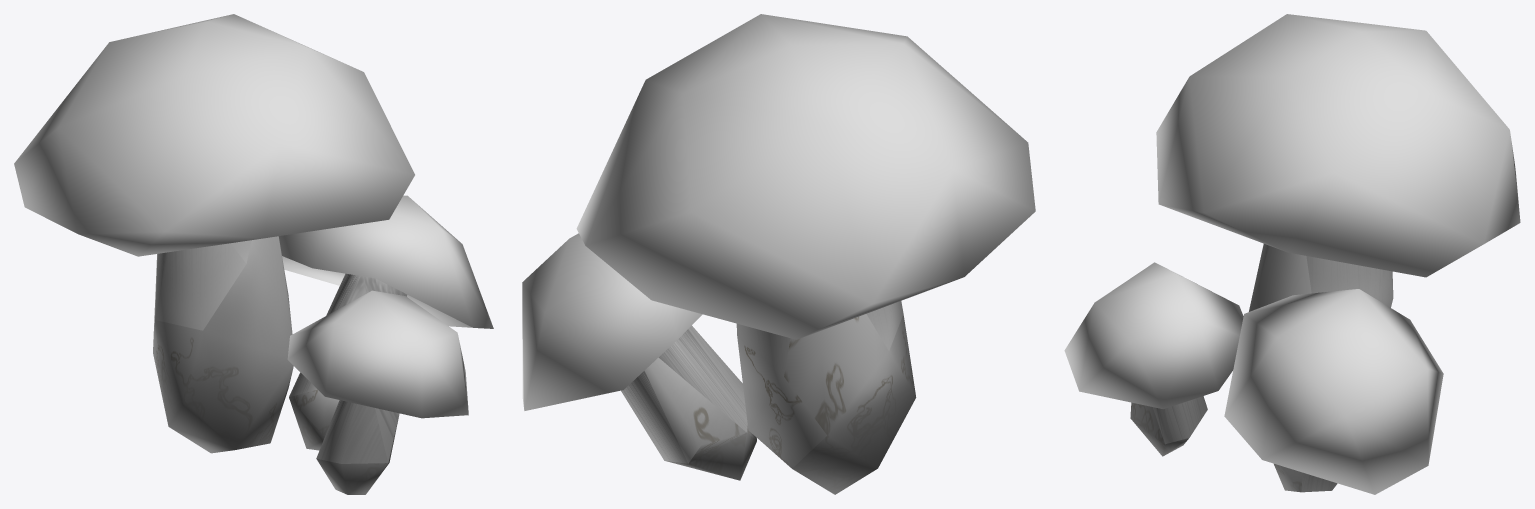
File: muuuu down.fbx
3 renders of one model, left to right at view 1: azimuth 30°, elevation 25°; view 2: azimuth 150°, elevation 25°; view 3: azimuth 270°, elevation 25°, orthographic. The views are drawn at different scales.
Parts seen in each view (by area): view 1: Mushrooms; view 2: Mushrooms; view 3: Mushrooms.
Part boxes in pixels (x1=…): Mushrooms: x1=14, y1=14, x2=493, y2=494; Mushrooms: x1=522, y1=14, x2=1035, y2=494; Mushrooms: x1=1064, y1=14, x2=1520, y2=494.
Bounding box in the file's own units: 1134 × 1100 × 1099.
